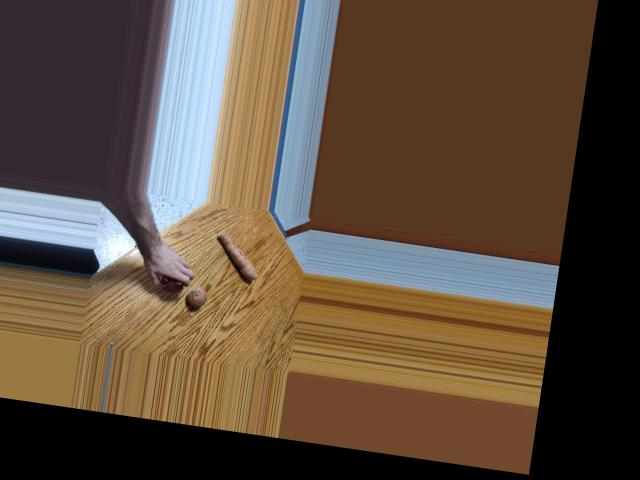onion: (185, 286, 206, 304)
